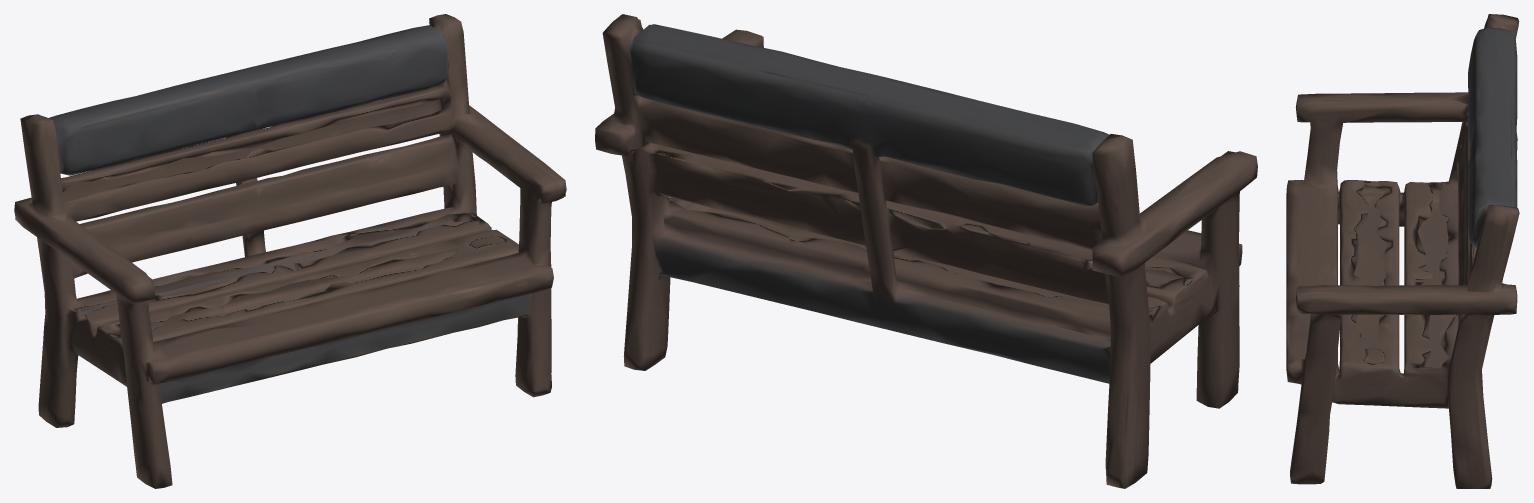
File: studentcafe_CozyBench.glb
3 views of the same model, side by side, from view 1: azimuth 30°, elevation 25°; view 2: azimuth 150°, elevation 25°; view 3: azimuth 270°, elevation 25° (orthographic). The views are drawn at different scales.
Parts seen in each view (by area): view 1: world; view 2: world; view 3: world.
Part boxes in pixels (bbox=[...]): world: bbox=[14, 14, 566, 488]; world: bbox=[595, 14, 1257, 488]; world: bbox=[1286, 14, 1519, 488].
Bounding box in the file's own units: 1 × 0.6388 × 0.4796.
Materials: 1 (1 with a texture image).
